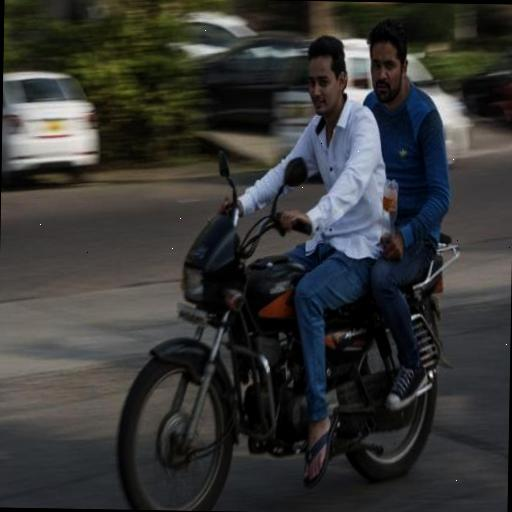no helmet: (172, 10, 372, 502)
